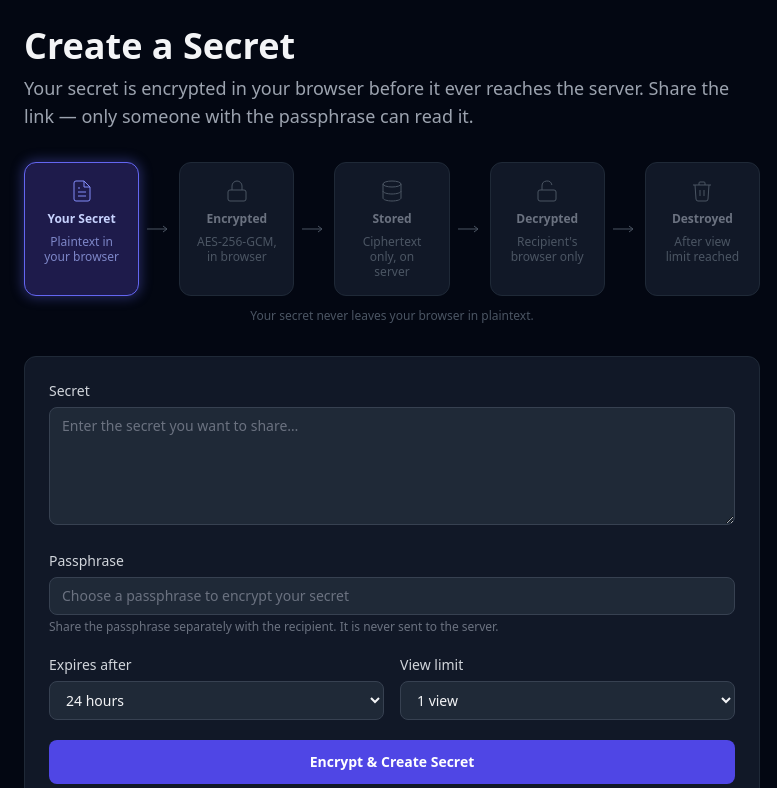
Test case: Create — submission flow › shows success state with shareable link after submission
Type "my secret" into the text box labelled "Secret" at (392, 466), box [49,407,735,525]
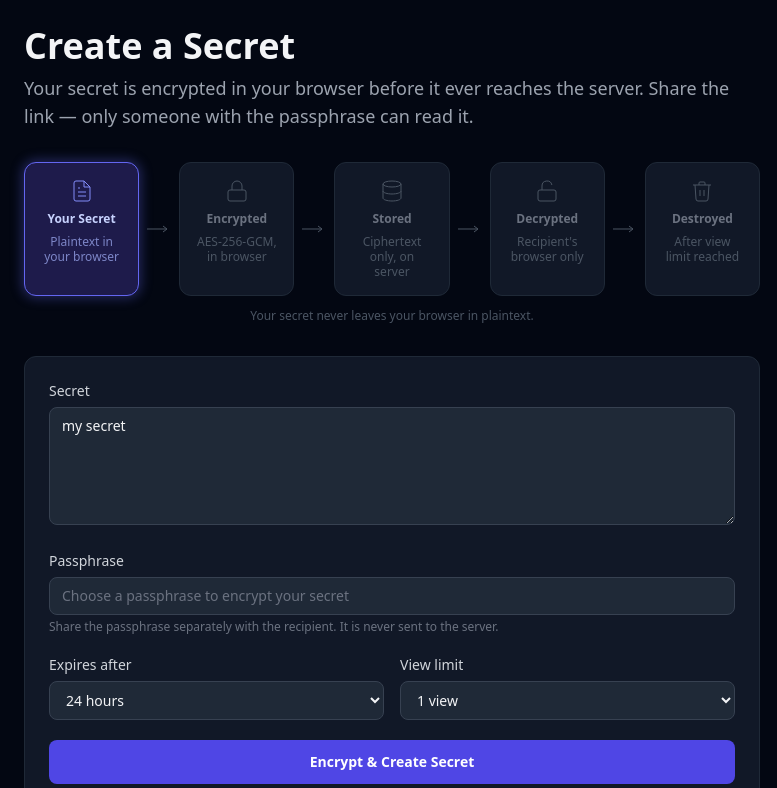
Type "mypass" into the password field labelled "Passphrase" at (392, 596), box [49,577,735,615]
(page scrolled)
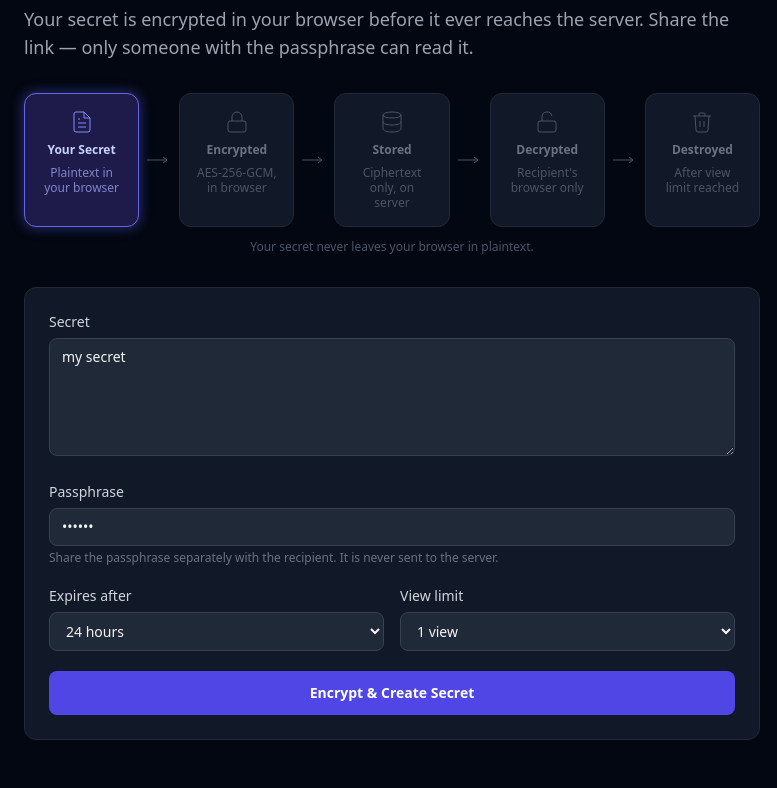
Submit the form named "Encrypt & Create Secret", box [24,287,760,740]
(page scrolled)
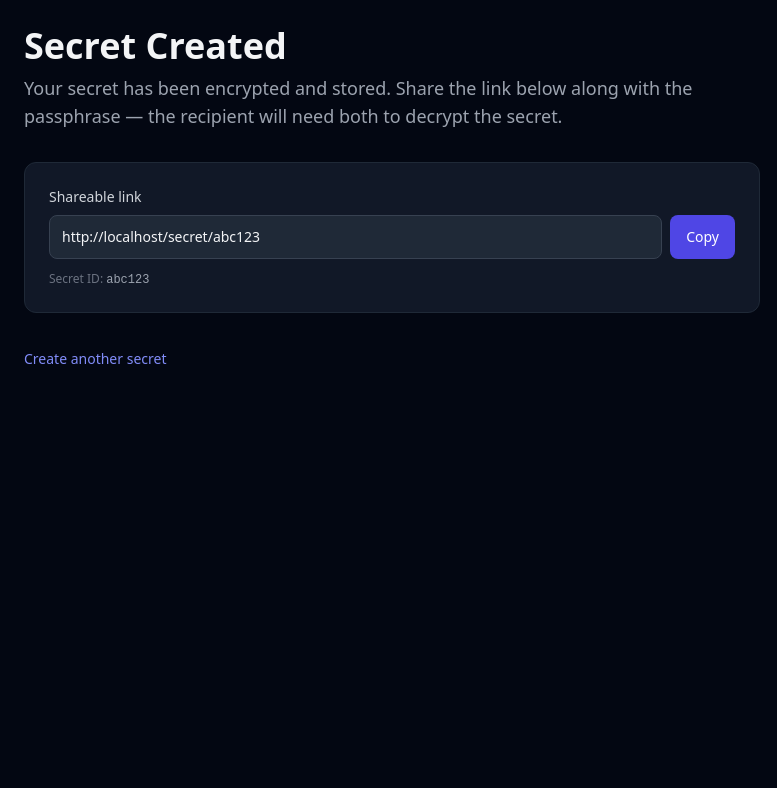
Result: the heading reads "Secret Created" at [24,21,287,70]
Result: the field showing "/secret/abc123" is shown at [49,215,662,259]
Result: the text "abc123" is shown at [106,273,149,287]
